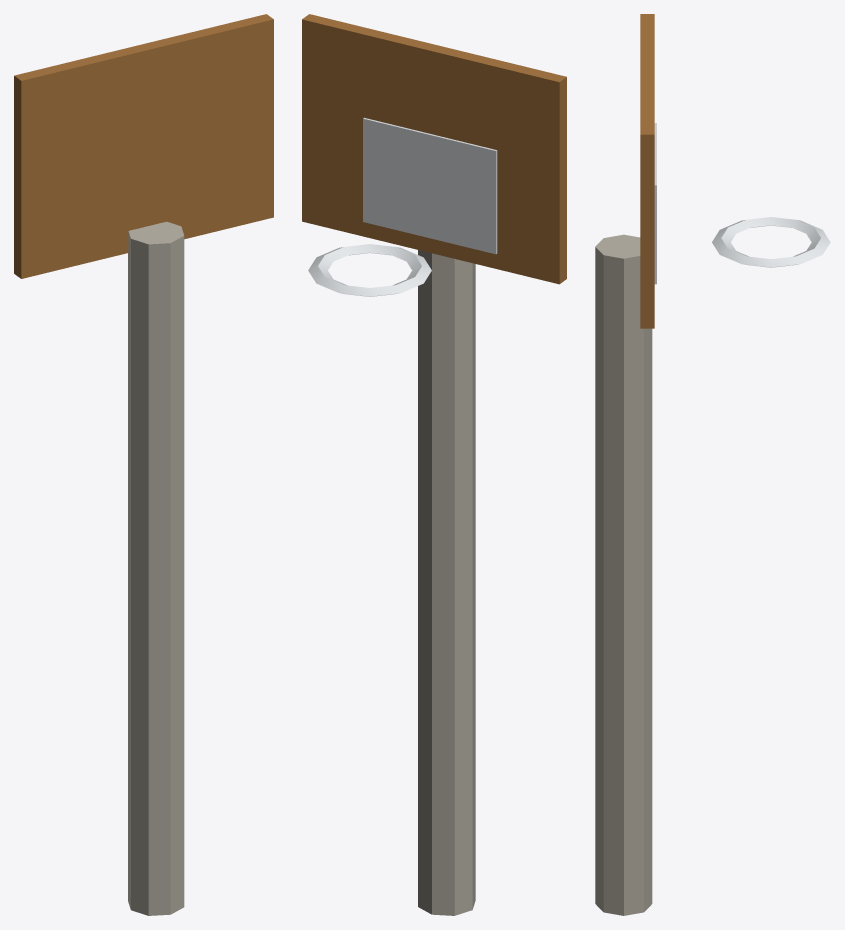
File: env_basketball_ring.obj
3 views of the same model, side by side, from view 1: azimuth 30°, elevation 25°; view 2: azimuth 150°, elevation 25°; view 3: azimuth 270°, elevation 25° (orthographic). The views are drawn at different scales.
Parts seen in each view (by area): view 1: BasketballRing; view 2: BasketballRing; view 3: BasketballRing.
Part boxes in pixels (box(x1,y1,x2,y2)): BasketballRing: box(14, 14, 273, 915); BasketballRing: box(302, 14, 566, 915); BasketballRing: box(595, 14, 830, 915).
Size of the model in its own units: 1.2 by 3.85 by 0.99.
